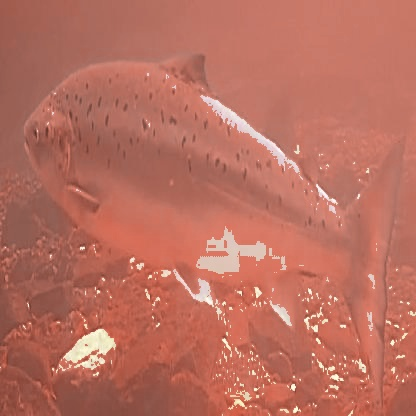salmon: (19, 42, 411, 412)
